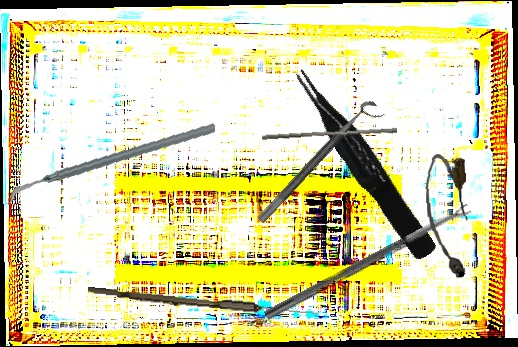Cannula: (423, 152, 473, 281)
Chopper: (6, 102, 216, 226)
Fixation Ring: (255, 97, 387, 234)
Pusher: (261, 123, 398, 145)
Surgical Spoon: (263, 203, 473, 322), (86, 286, 320, 319)
Tissue Forceps: (289, 58, 439, 267)
